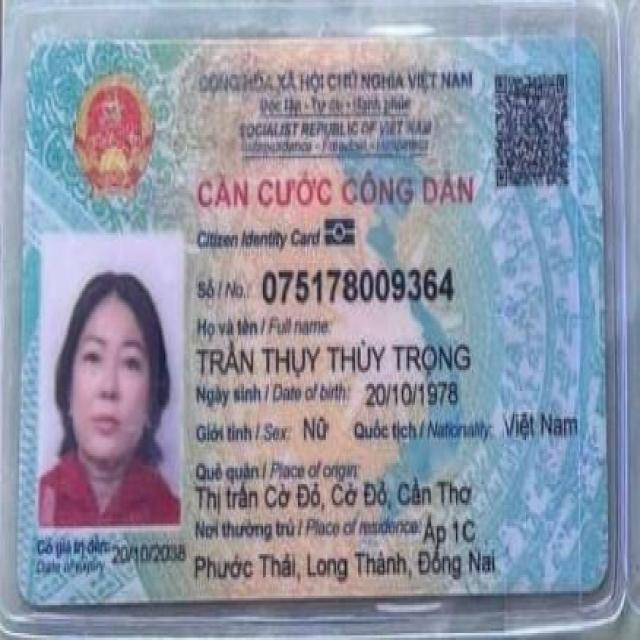current_place: (191, 547, 500, 589), (422, 510, 479, 549)
dob: (362, 379, 462, 412)
expire_date: (110, 538, 188, 573)
gender: (297, 410, 333, 451)
id: (260, 263, 456, 310)
name: (194, 340, 472, 379)
nationality: (500, 407, 582, 445)
origin_place: (194, 477, 479, 517)
qr: (492, 67, 574, 196)
